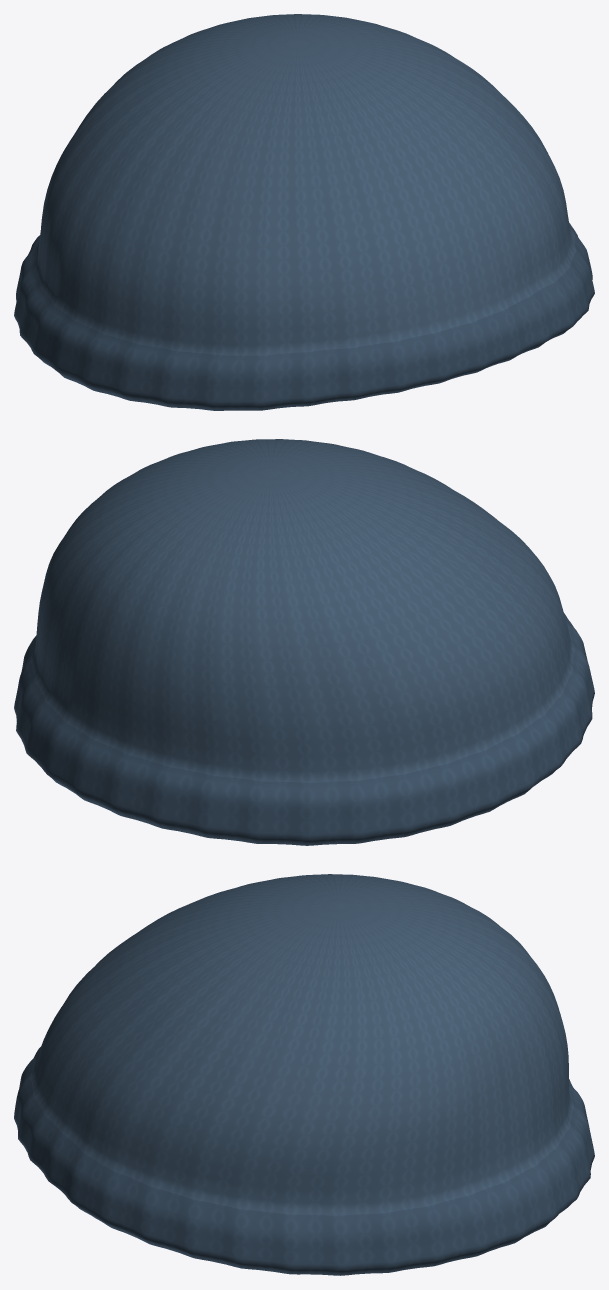
File: beanie-feminine-twin-braids.glb
3 renders of one model, top to bottom at view 1: azimuth 30°, elevation 25°; view 2: azimuth 150°, elevation 25°; view 3: azimuth 270°, elevation 25°, orthographic.
Visible parts, largest first — view 1: Beanie / fitted knit; view 2: Beanie / fitted knit; view 3: Beanie / fitted knit.
Boxes of the visible parts, x1,y1,x2,y2 form: Beanie / fitted knit: [14, 14, 594, 410]; Beanie / fitted knit: [14, 439, 594, 845]; Beanie / fitted knit: [14, 874, 594, 1275].
Bounding box in the file's own units: 0.8151 × 0.4059 × 0.7988.
2 materials, 2 textured.
